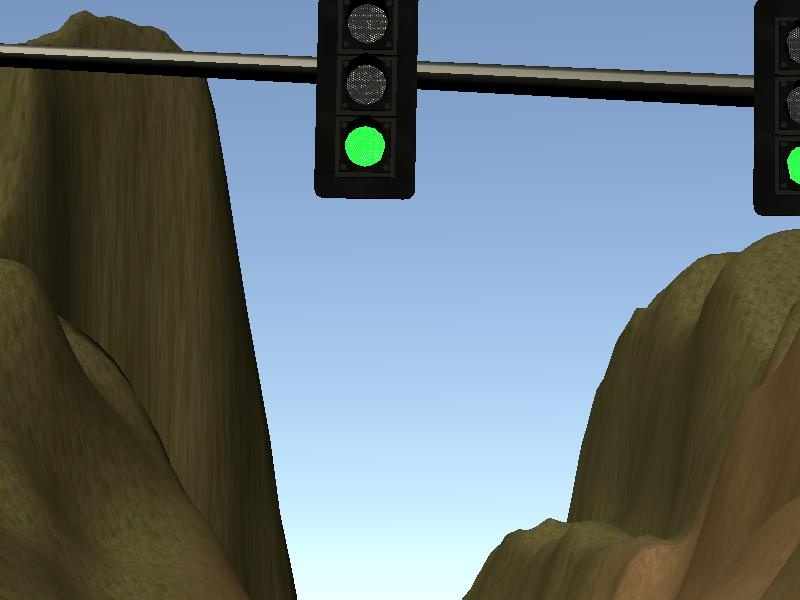green: (311, 1, 421, 204), (751, 1, 800, 214)
